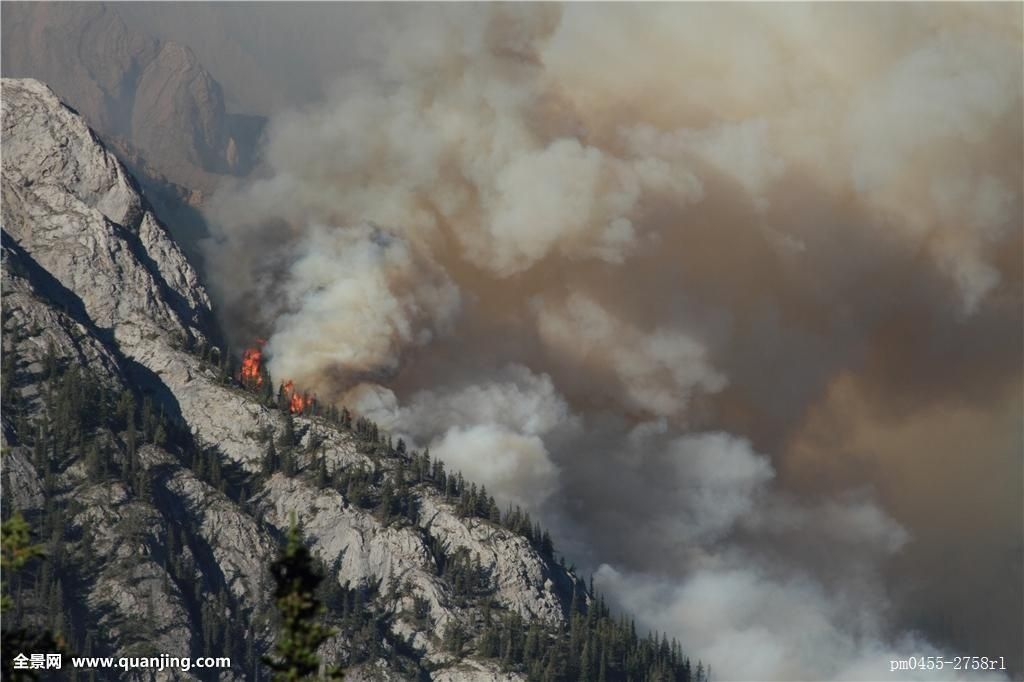fire: (234, 344, 266, 382), (280, 379, 313, 412)
